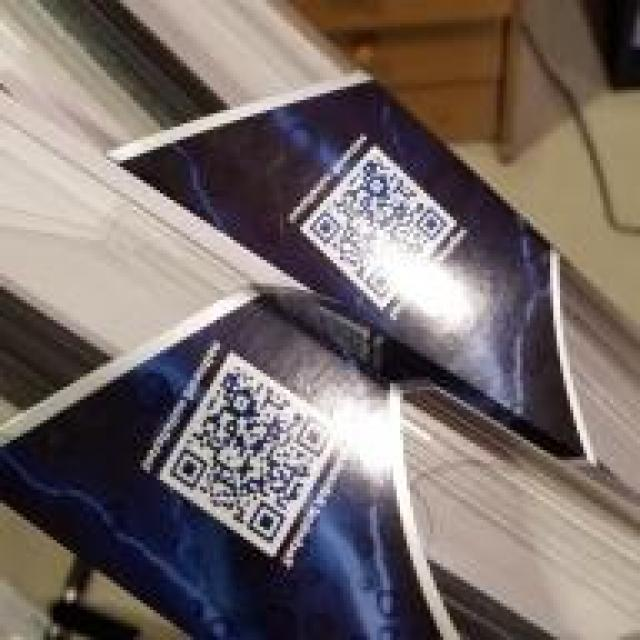QR_CODE: (148, 337, 354, 553), (300, 143, 457, 310)
